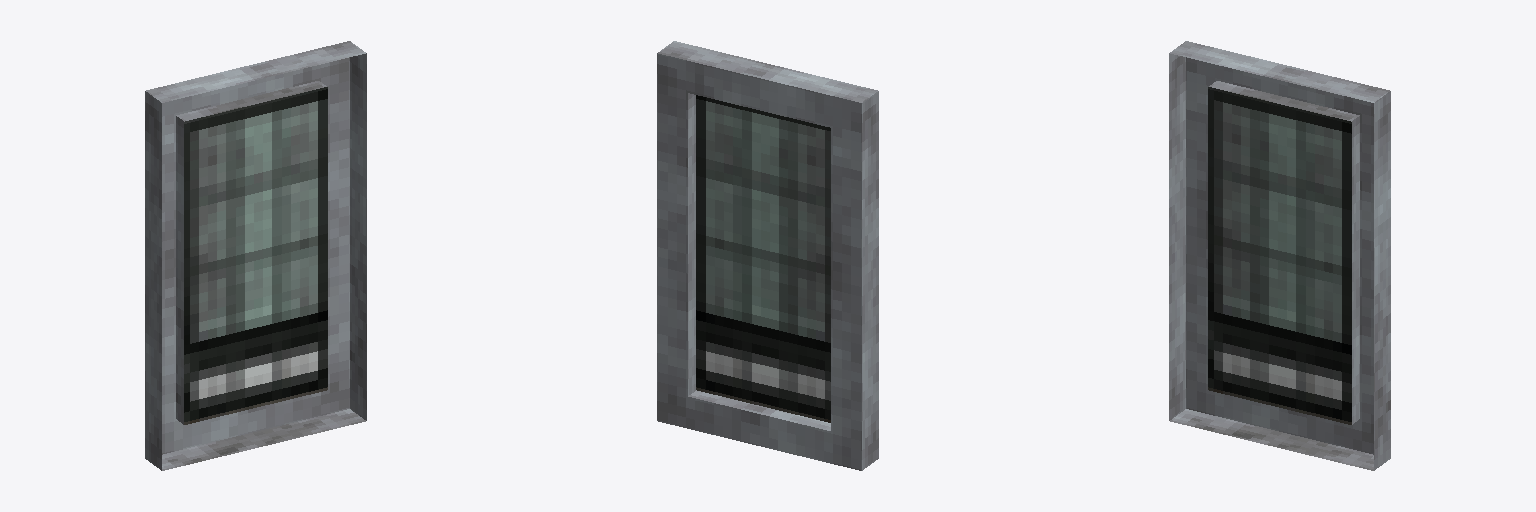
3 views of the same model, side by side, from view 1: azimuth 30°, elevation 25°; view 2: azimuth 150°, elevation 25°; view 3: azimuth 330°, elevation 25° (orthographic).
Parts seen in each view (by area): view 1: windowSmall_typeA; view 2: windowSmall_typeA; view 3: windowSmall_typeA.
Boxes of the visible parts, x1,y1,x2,y2 form: windowSmall_typeA: [145, 41, 366, 470]; windowSmall_typeA: [657, 41, 878, 470]; windowSmall_typeA: [1169, 41, 1390, 470].
Size of the model in its own units: 0.3478 by 0.5978 by 0.05.
2 materials, 2 textured.